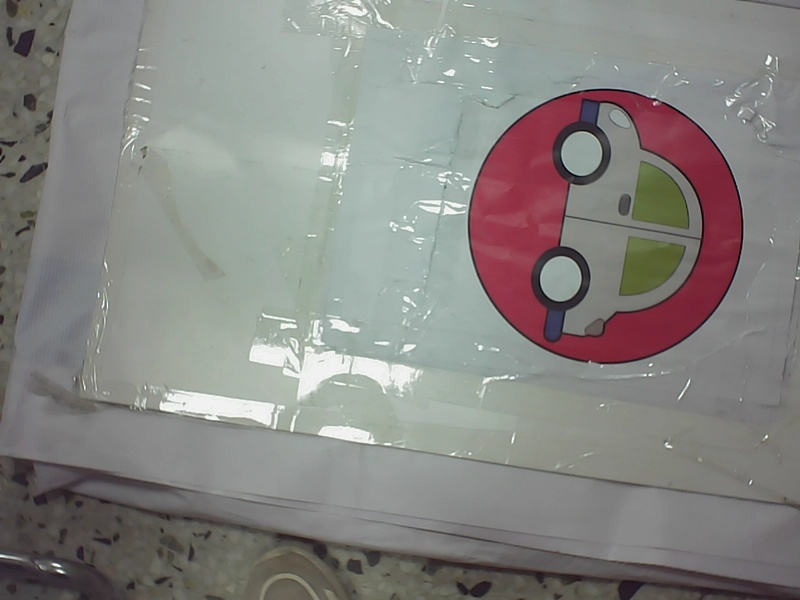areaC: (459, 81, 753, 372)
